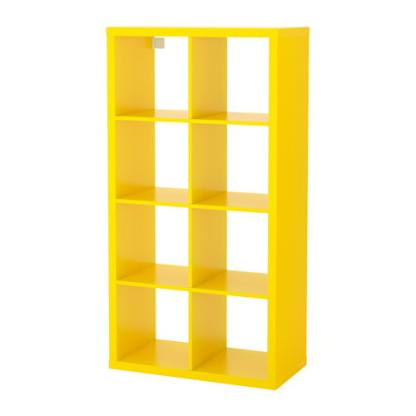Cabinet: (102, 18, 312, 393)
